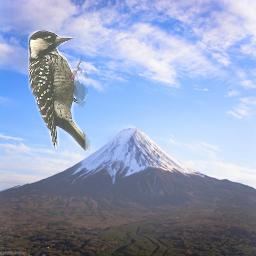Woodpecker: (28, 30, 91, 152)
